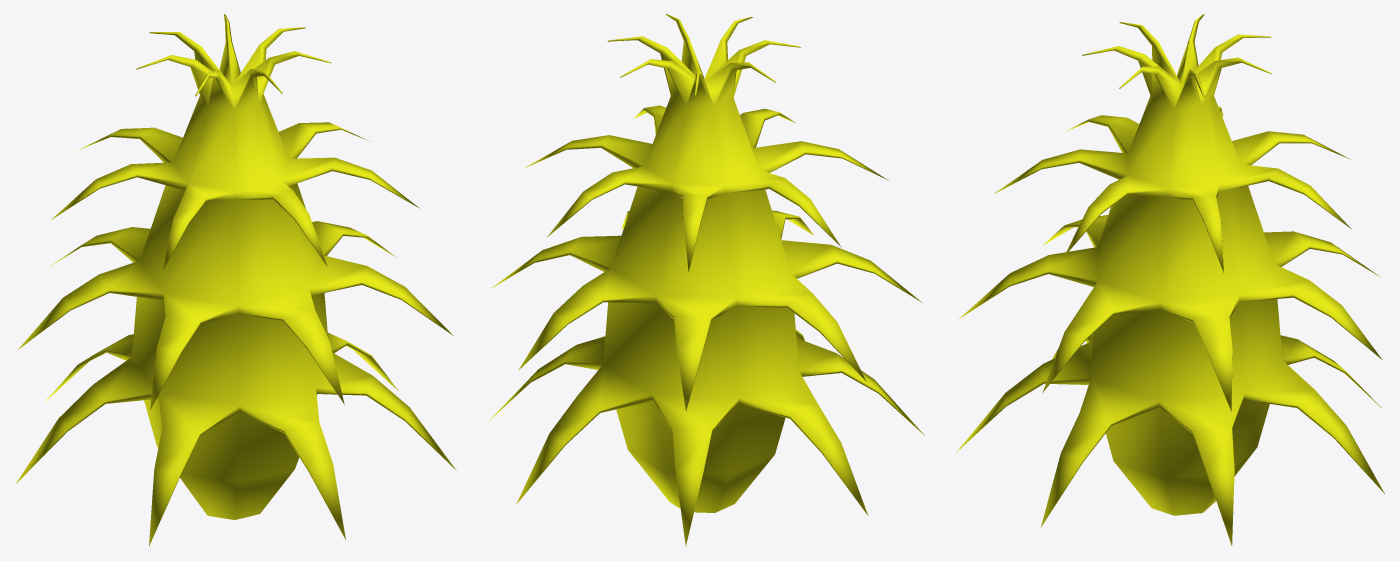
File: tree4.fbx
The picture shows the model from 3 angles, left to right: view 1: azimuth 30°, elevation 25°; view 2: azimuth 150°, elevation 25°; view 3: azimuth 270°, elevation 25°; orthographic projection.
Visible parts, largest first — view 1: Circle.002; view 2: Circle.002; view 3: Circle.002.
Boxes of the visible parts, <box> form: Circle.002: <box>15,14,456,546</box>; Circle.002: <box>487,14,924,546</box>; Circle.002: <box>955,14,1384,545</box>.
Size of the model in its own units: 656 by 748 by 640.
